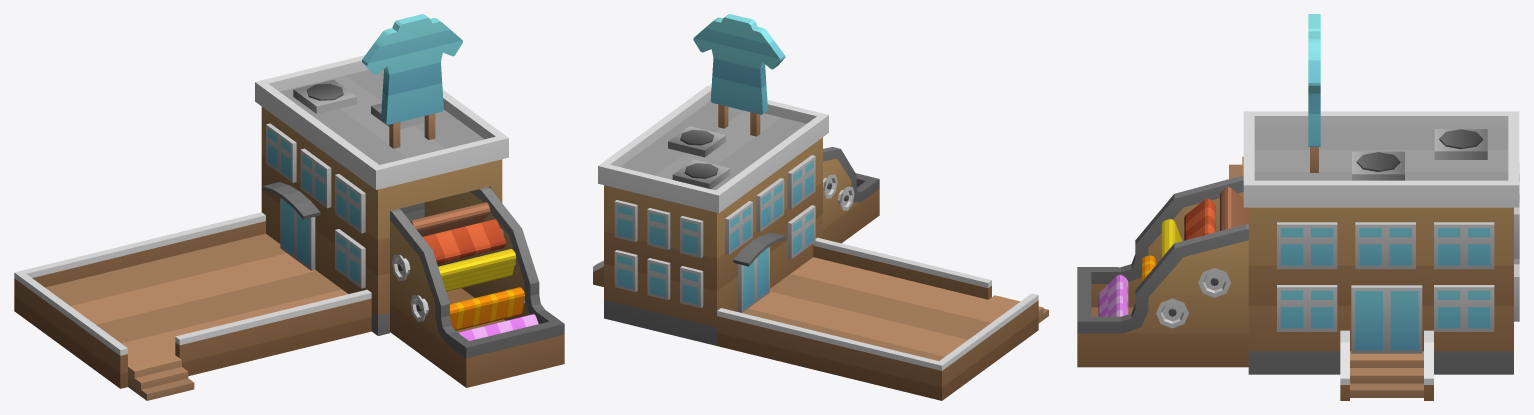
File: garment factory house.fbx
3 renders of one model, left to right at view 1: azimuth 30°, elevation 25°; view 2: azimuth 150°, elevation 25°; view 3: azimuth 270°, elevation 25°, orthographic. The views are drawn at different scales.
Visible parts, largest first — view 1: garment_factory_house, fabric_roll_2, fabric_roll_4, fabric_roll_3, fabric_roll, fabric_roll_5; view 2: garment_factory_house; view 3: garment_factory_house, fabric_roll_5, fabric_roll_2, fabric_roll, fabric_roll_3.
Part boxes in pixels (x1=…): garment_factory_house: x1=14, y1=14, x2=564, y2=400; fabric_roll_2: x1=422, y1=219, x2=506, y2=263; fabric_roll_4: x1=450, y1=287, x2=524, y2=330; fabric_roll_3: x1=438, y1=249, x2=516, y2=291; fabric_roll: x1=410, y1=202, x2=490, y2=236; fabric_roll_5: x1=458, y1=314, x2=538, y2=340; garment_factory_house: x1=593, y1=14, x2=1048, y2=400; garment_factory_house: x1=1077, y1=14, x2=1519, y2=400; fabric_roll_5: x1=1098, y1=274, x2=1128, y2=316; fabric_roll_2: x1=1184, y1=198, x2=1215, y2=240; fabric_roll: x1=1220, y1=187, x2=1248, y2=230; fabric_roll_3: x1=1161, y1=219, x2=1181, y2=257.
Bounding box in the file's own units: 1576 × 1008 × 1265.
Materials: 1 (1 with a texture image).
